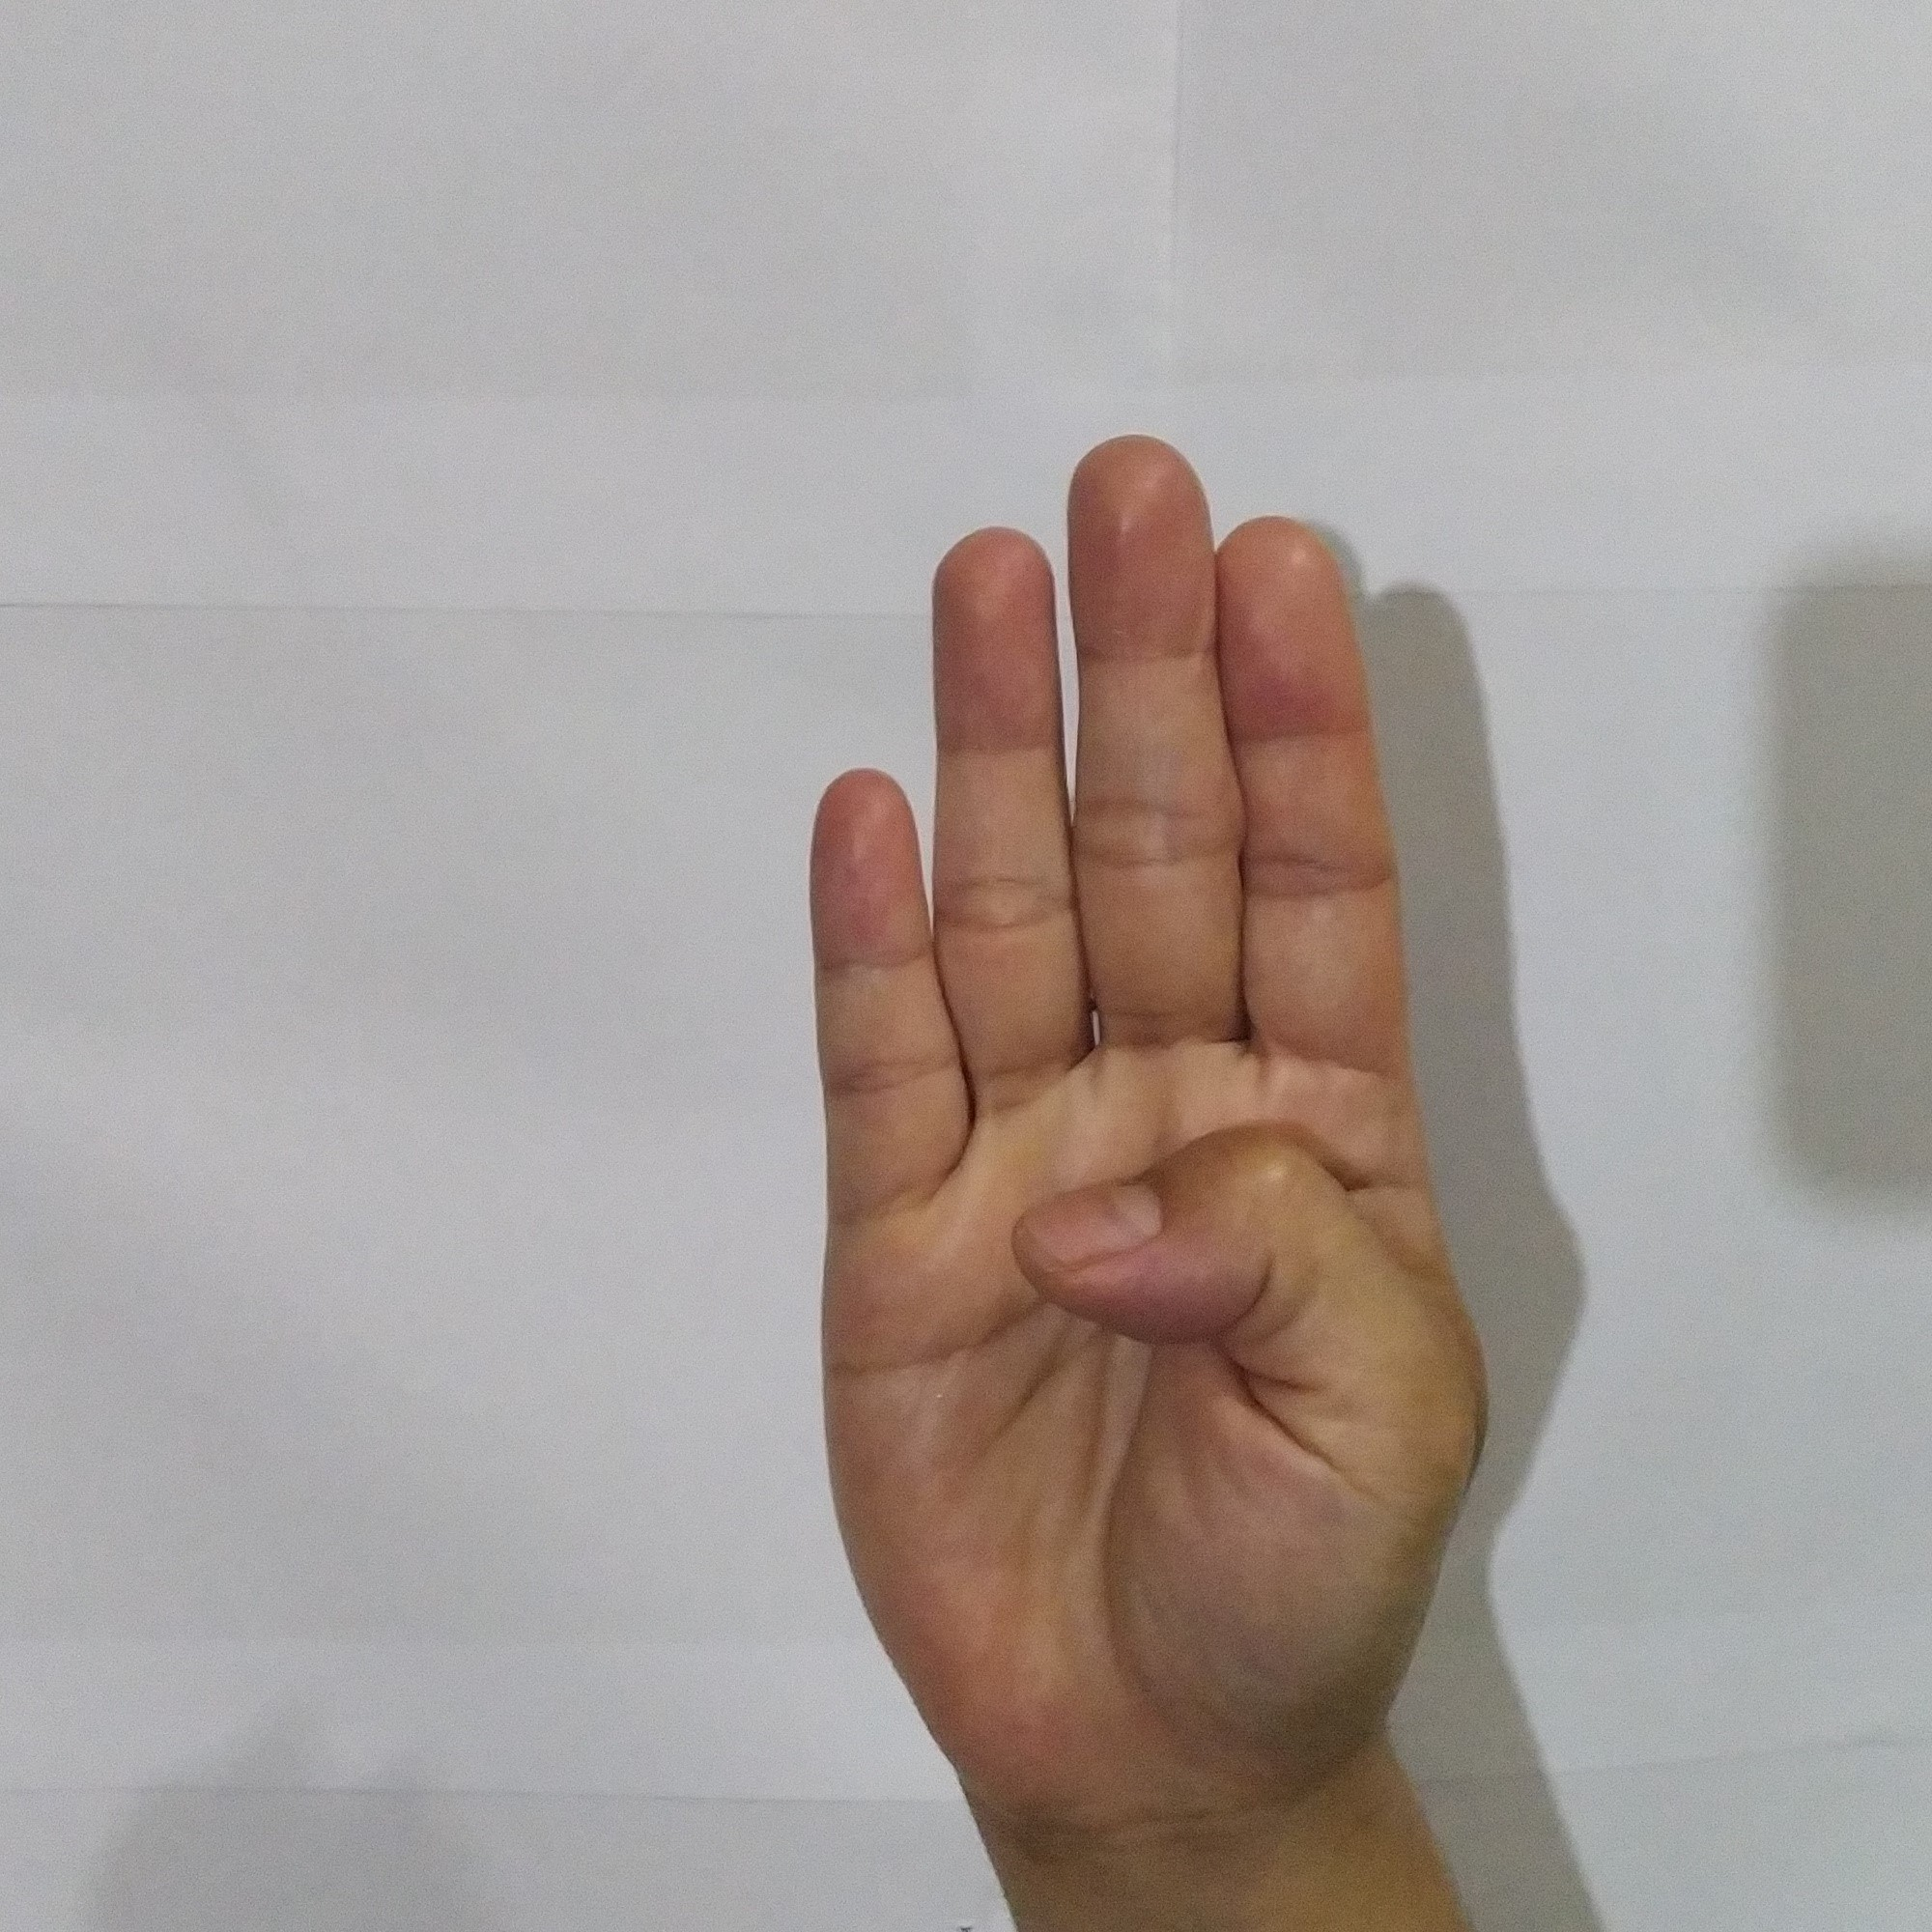B: (784, 416, 1511, 1821)
